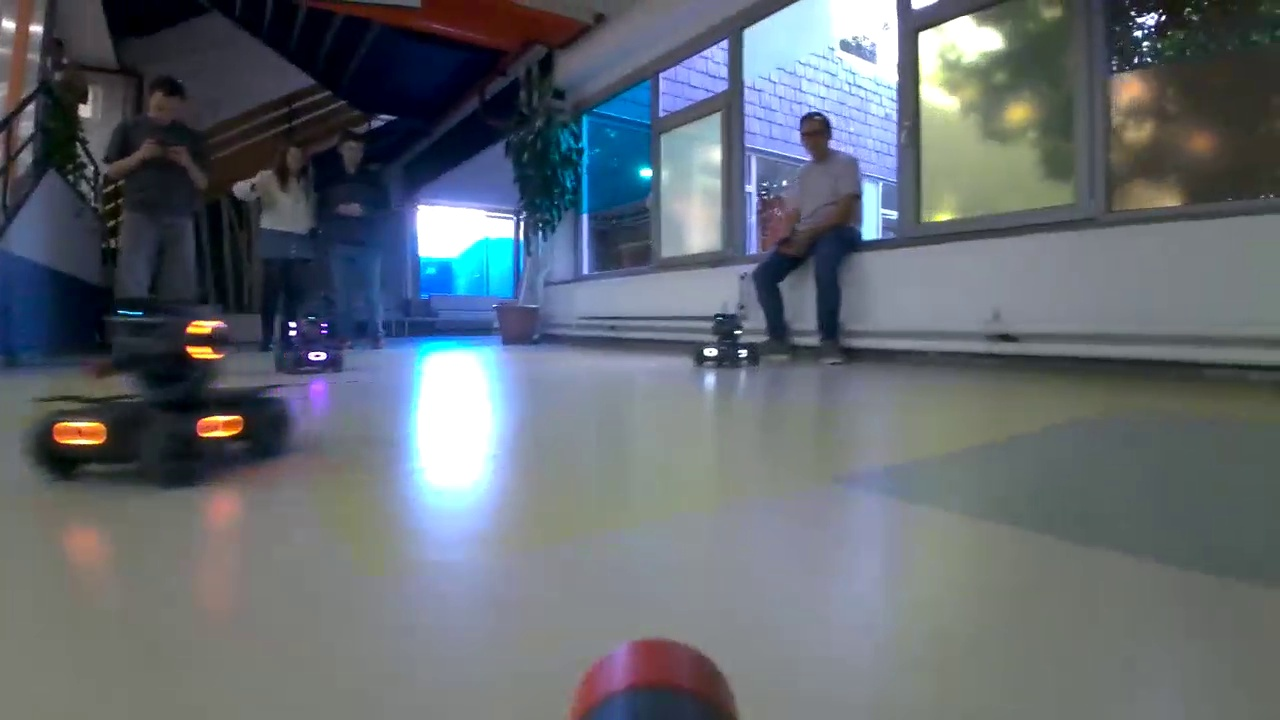robot: (44, 314, 287, 486), (700, 318, 756, 372), (286, 320, 336, 374)
